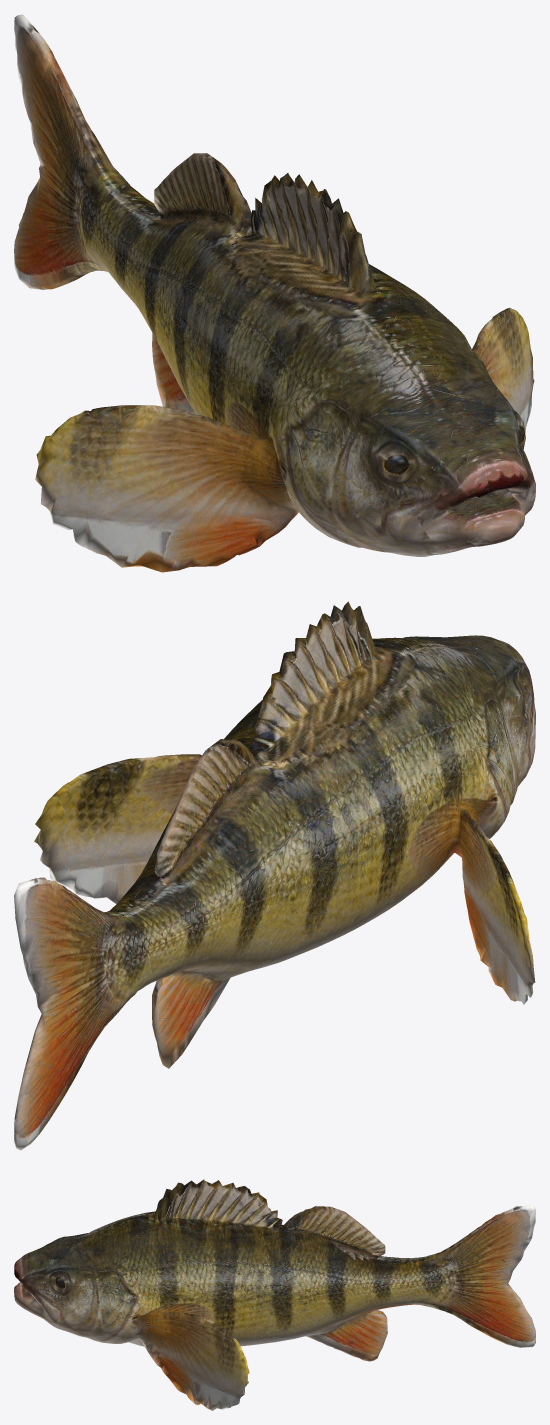
Rendered from fish_yperch.glb.
The picture shows the model from 3 angles, top to bottom: view 1: azimuth 30°, elevation 25°; view 2: azimuth 150°, elevation 25°; view 3: azimuth 270°, elevation 25°; orthographic projection. The views are drawn at different scales.
Parts seen in each view (by area): view 1: geometry_0; view 2: geometry_0; view 3: geometry_0.
Boxes of the visible parts, x1,y1,x2,y2 form: geometry_0: [14, 14, 535, 572]; geometry_0: [14, 601, 535, 1150]; geometry_0: [14, 1179, 535, 1410].
Bounding box in the file's own units: 1.16 × 0.7537 × 1.96.
Materials: 1 (1 with a texture image).
